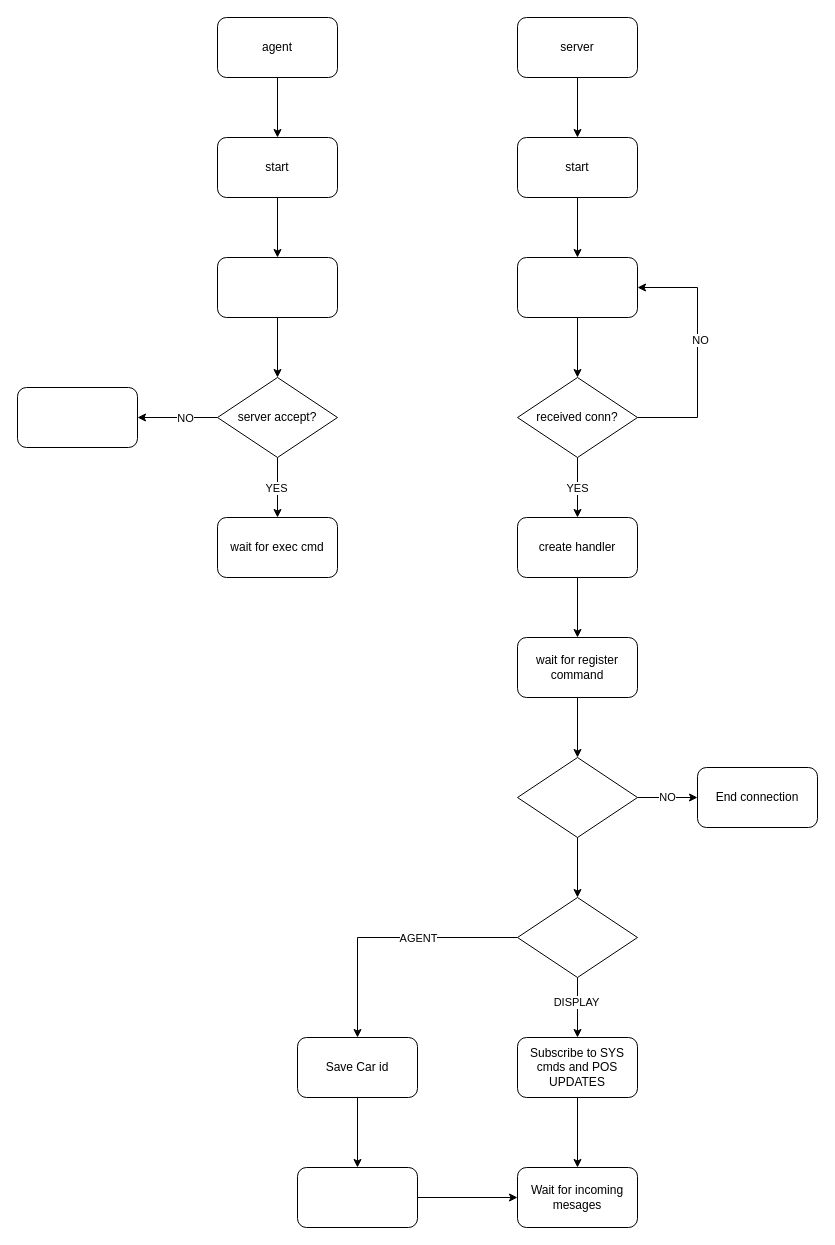
Image size: 835x1245. Some labels were removed from this diagram. The centre of each missing label's shape, as x and y in pixels:
"error state" goes at (x=77, y=417).
"is register valid?" goes at (x=577, y=797).
"listen" goes at (x=577, y=287).
"send register to server" goes at (x=277, y=287).
"Subscribe to EXEC and SYS cmds" goes at (x=357, y=1197).
"what type of conn" goes at (x=577, y=937).
